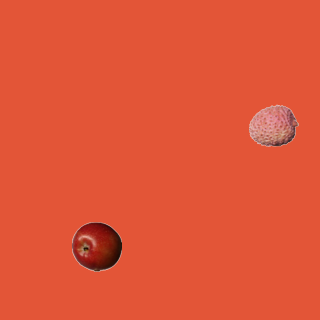Apple Braeburn: (71, 221, 121, 271)
Lychee: (248, 100, 298, 150)
